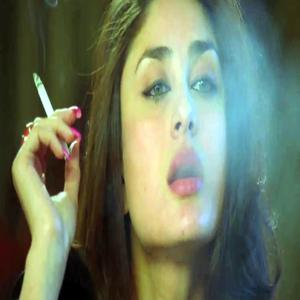cigarette: (32, 68, 74, 155)
